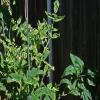Tomato leaf yellow virus: (5, 70, 24, 84), (27, 66, 40, 78), (53, 14, 66, 24), (31, 43, 40, 57), (51, 32, 62, 40), (39, 30, 48, 39), (53, 0, 59, 13), (43, 63, 50, 74), (5, 34, 12, 44), (6, 57, 14, 64), (17, 15, 22, 25), (37, 24, 44, 31), (33, 28, 39, 36), (45, 48, 52, 54), (23, 52, 28, 60), (12, 25, 17, 31), (9, 46, 14, 52), (53, 27, 59, 32), (7, 53, 11, 58)
